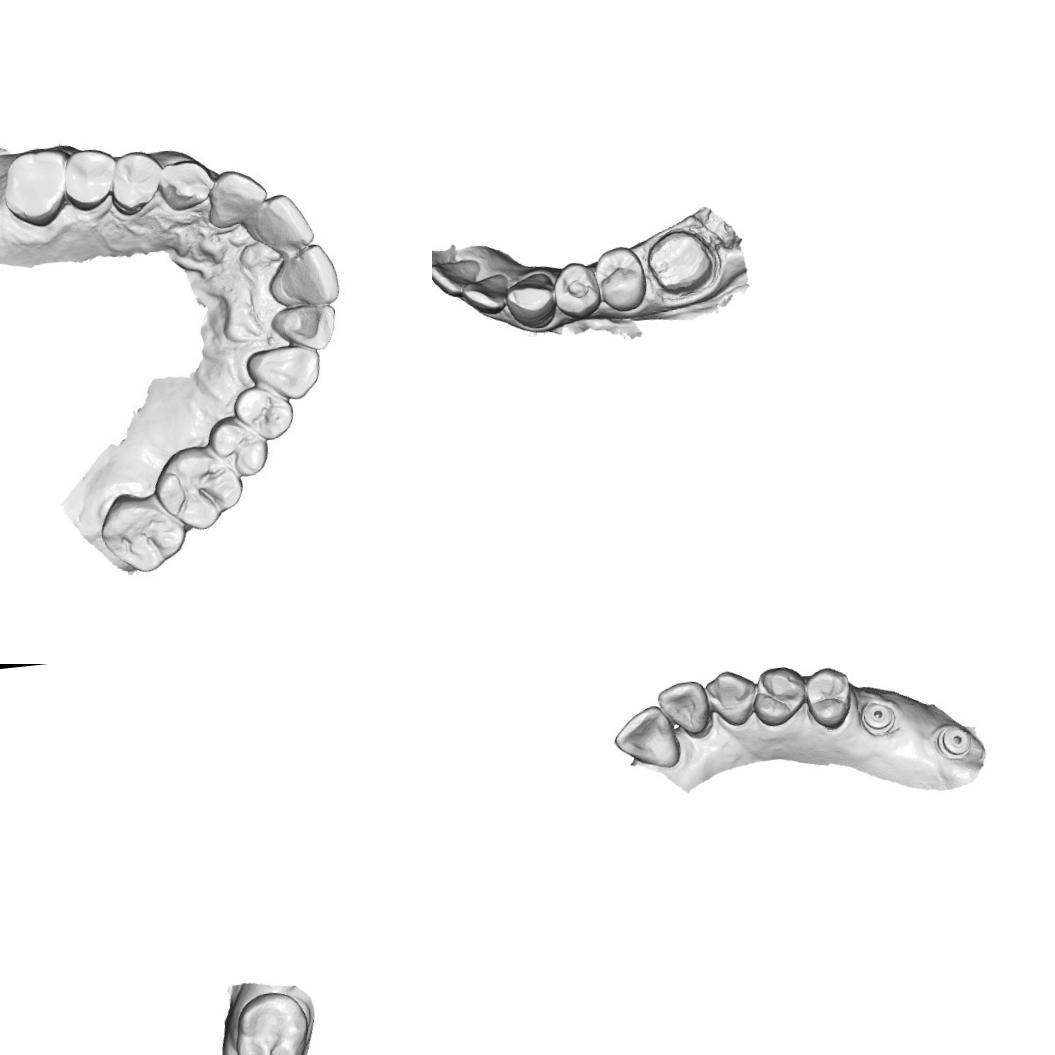canine: (240, 338, 325, 406), (151, 153, 215, 216), (703, 666, 760, 729), (503, 271, 559, 334)
crown: (642, 225, 720, 300)
implant: (934, 722, 974, 762), (858, 700, 898, 739)
incisor: (610, 702, 683, 774), (272, 244, 340, 310), (207, 163, 269, 232), (654, 678, 716, 743), (253, 194, 317, 256), (276, 300, 338, 351), (459, 270, 512, 318), (432, 255, 483, 300)
molar: (148, 438, 247, 536), (93, 486, 188, 578), (230, 991, 317, 1055), (3, 146, 72, 225)
premolar: (592, 243, 650, 314), (207, 416, 271, 478), (748, 664, 809, 728), (230, 382, 294, 439), (802, 664, 855, 732), (549, 259, 603, 324), (64, 147, 120, 205), (113, 151, 164, 211)
